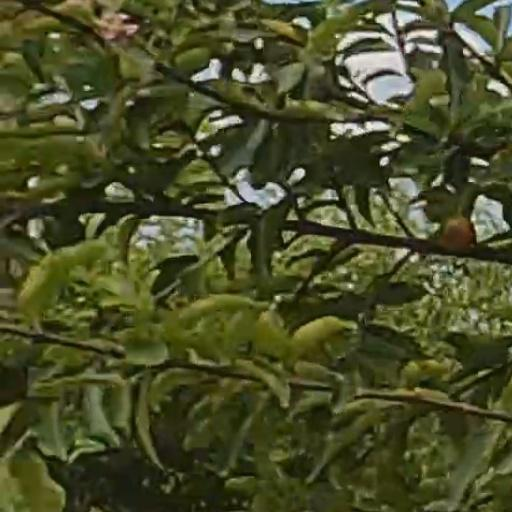acerola: (442, 218, 473, 249)
